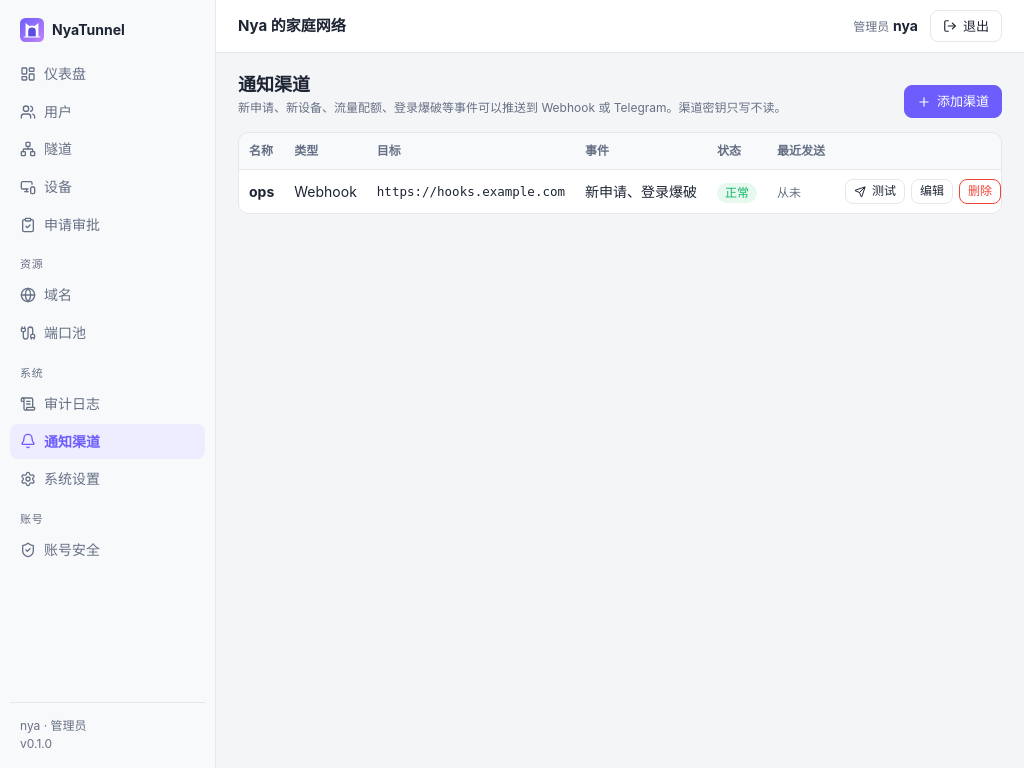
Test: notification channels › shows why a test message failed
What coordinates should you click on to do the following:
click the button with aria-label "测试 ops"
I would click on:
 (875, 192)
Its box is [845,179,905,204].
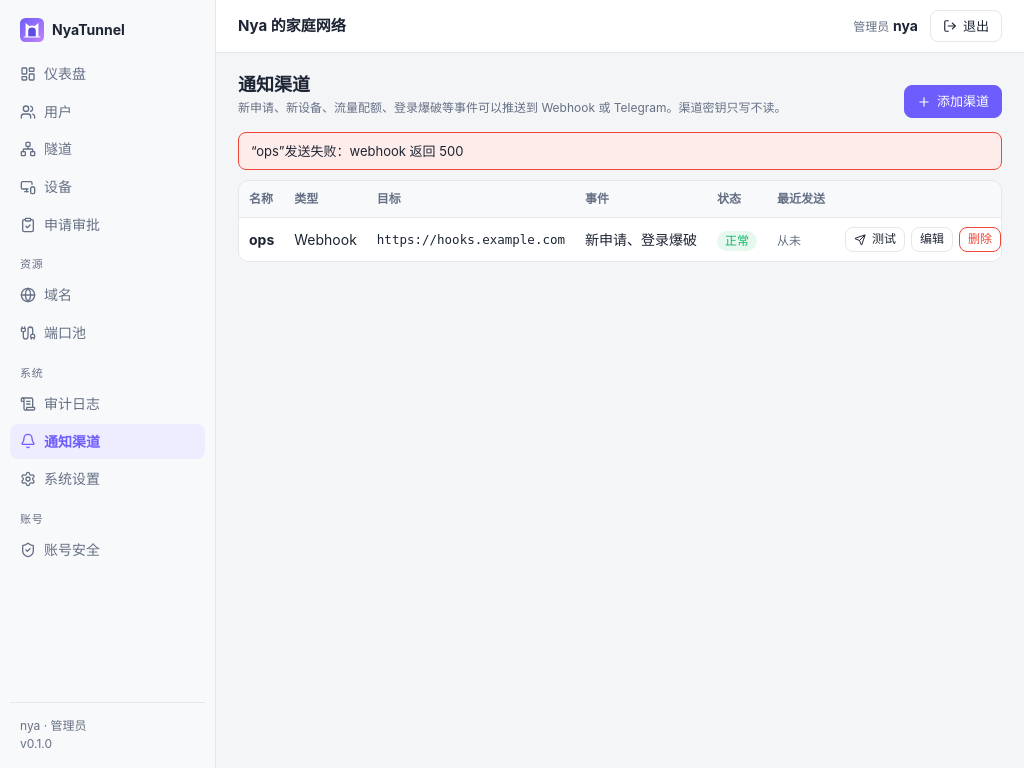
Now the message reads "“ops”发送失败：webhook 返回 500", box [251,143,463,159]
